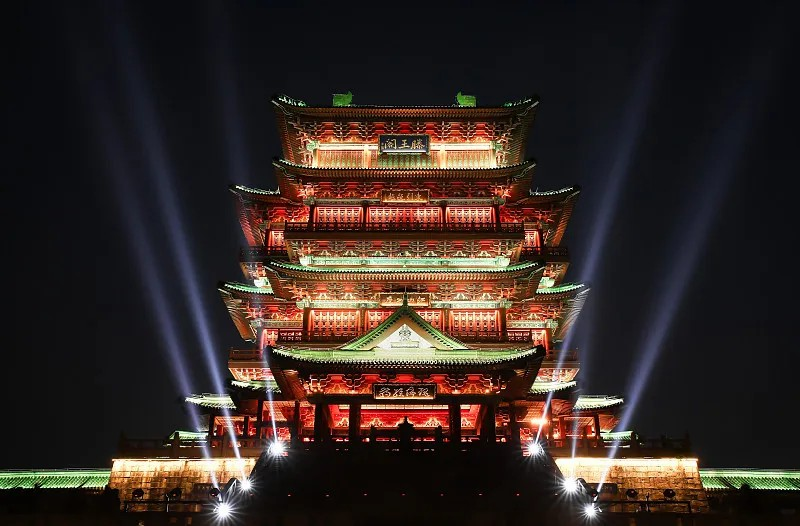Teng: (185, 91, 624, 432)
